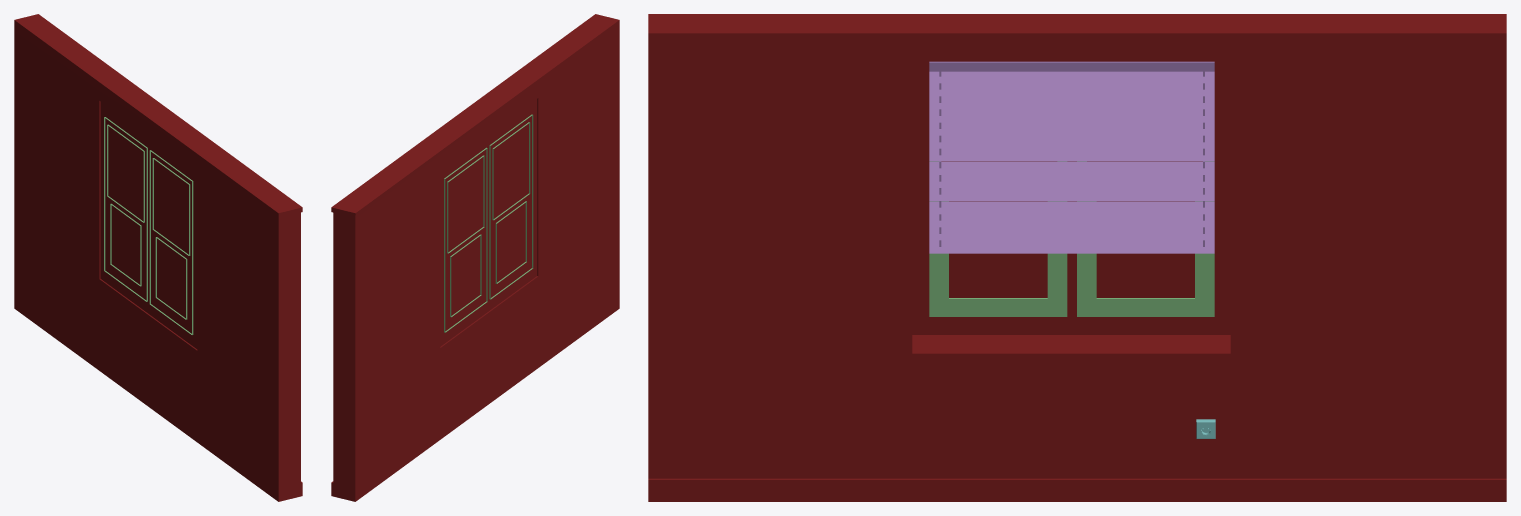
File: pared1.fbx
3 renders of one model, left to right at view 1: azimuth 30°, elevation 25°; view 2: azimuth 150°, elevation 25°; view 3: azimuth 270°, elevation 25°, orthographic. The views are drawn at different scales.
Visible parts, largest first — view 1: pared1, planito, ventana_doble; view 2: pared1, planito, ventana_doble; view 3: pared1, cortina_doble, planito, ventana_doble.
Part boxes in pixels (box(x1,y1,x2,y2)): pared1: box(14, 14, 302, 501); planito: box(100, 102, 197, 348); ventana_doble: box(104, 117, 193, 334); pared1: box(331, 14, 619, 501); planito: box(440, 99, 536, 346); ventana_doble: box(444, 114, 533, 332); pared1: box(648, 14, 1506, 501); cortina_doble: box(929, 61, 1214, 253); planito: box(912, 61, 1230, 334); ventana_doble: box(929, 161, 1214, 316).
Size of the model in its own units: 2.3 by 24.74 by 41.04.
